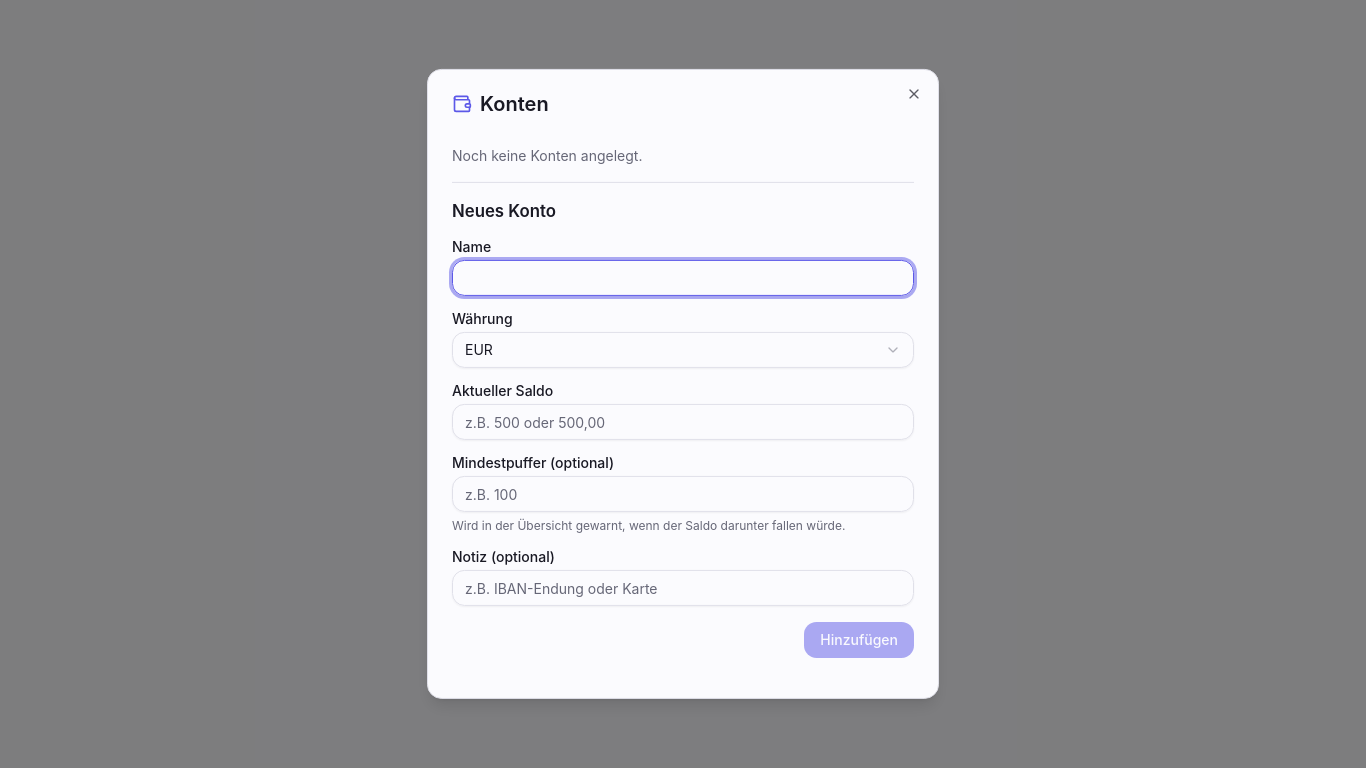
AccountsDialog › zeigt eine Validierungs-Meldung bei ungültigem Saldo
This screenshot has width=1366, height=768.
In the field labelled "Name": coordinates (683, 278) x1=452 y1=260 x2=914 y2=296, type "Test"
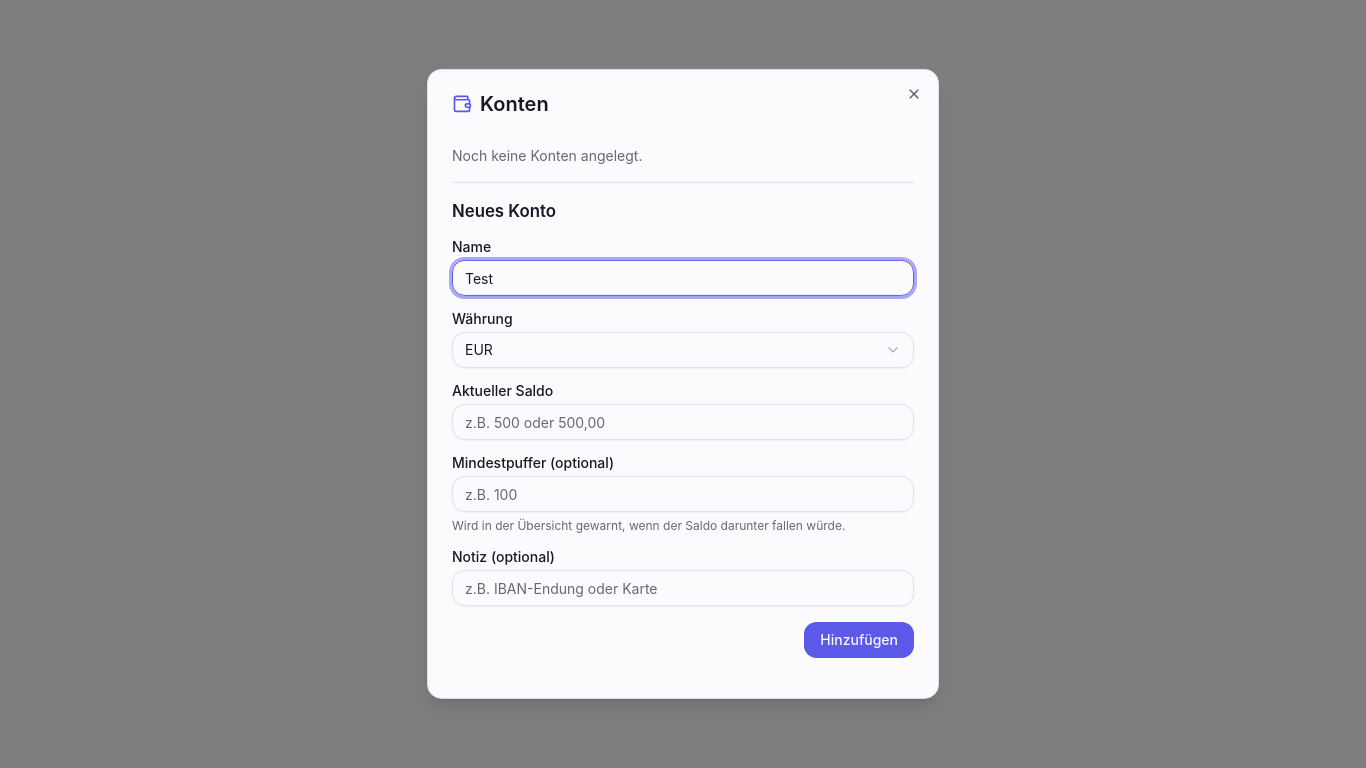
In the field labelled "Aktueller Saldo": coordinates (683, 422) x1=452 y1=404 x2=914 y2=440, type "abc"
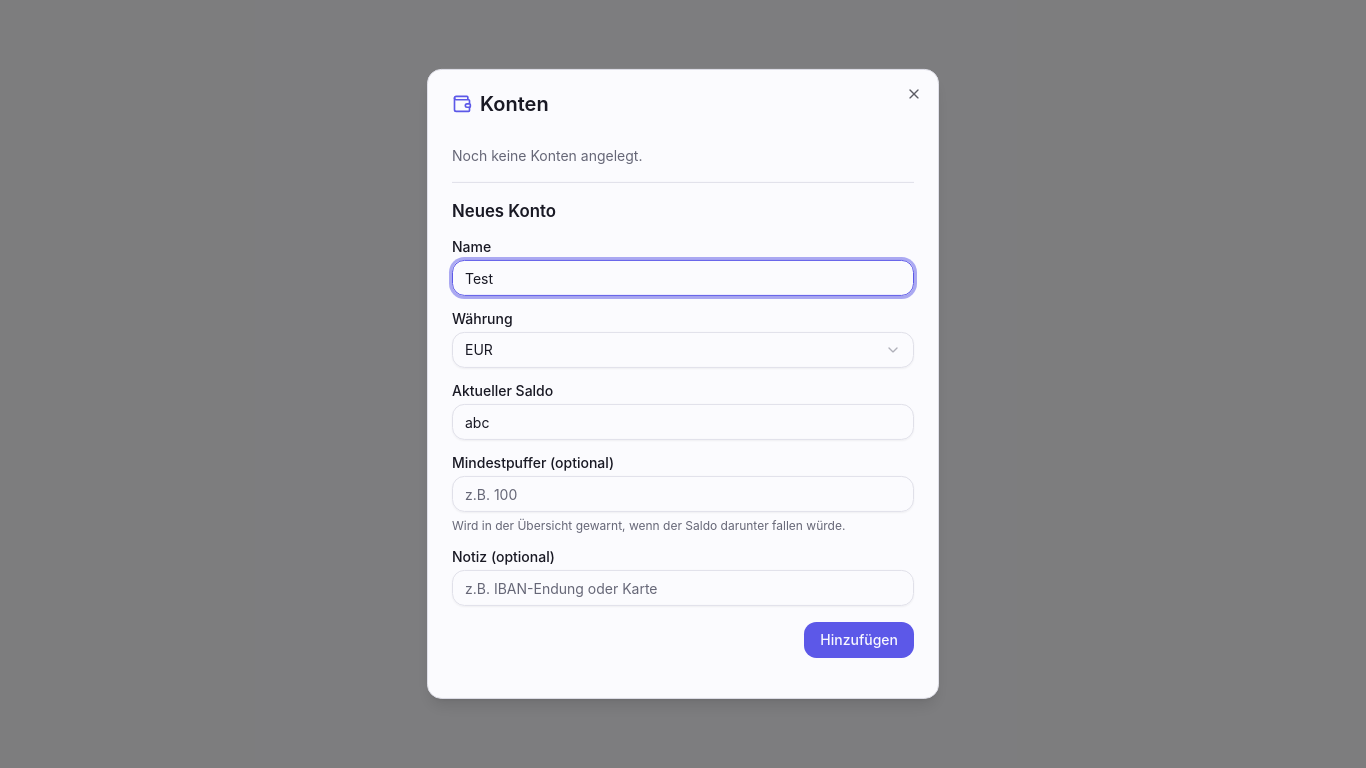
Click the button "Hinzufügen": coordinates (859, 640) x1=804 y1=622 x2=914 y2=658
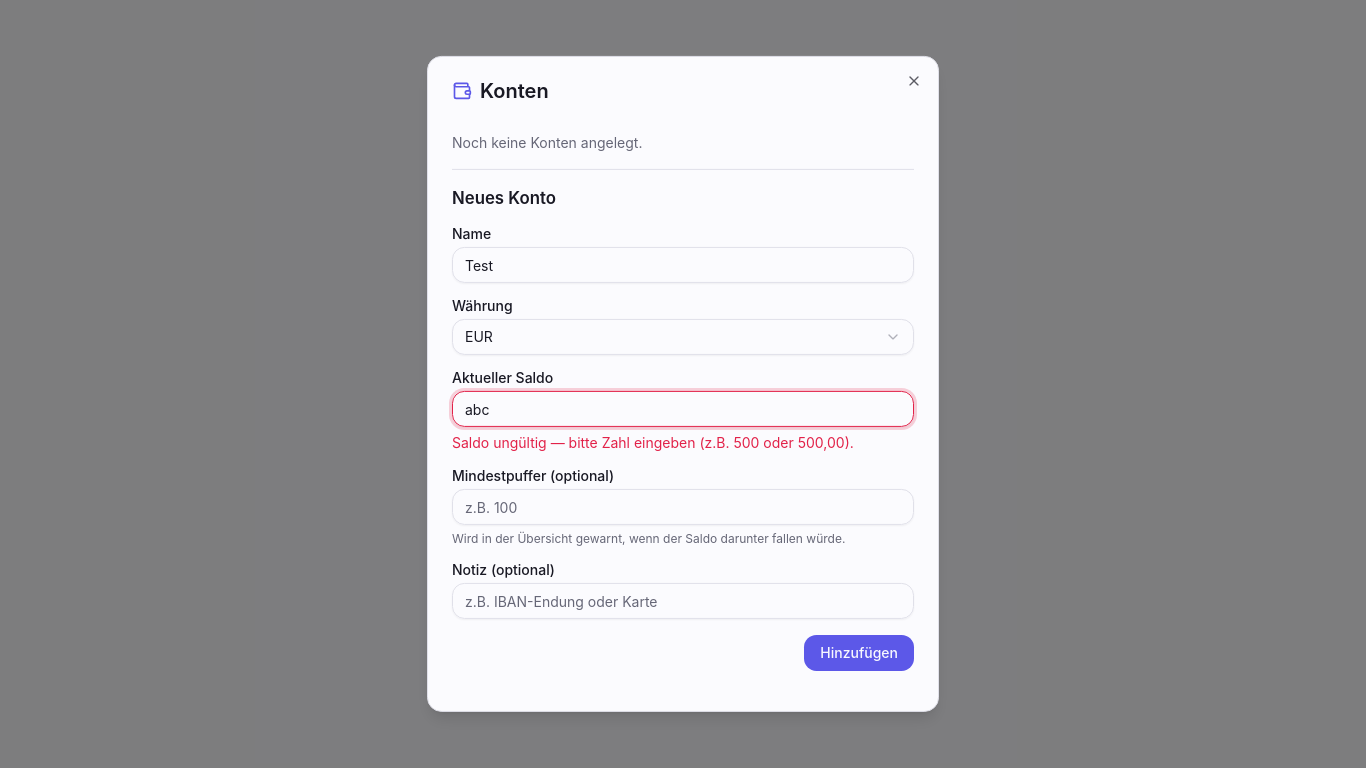
Expected: the message shows "Saldo ungültig", x1=452 y1=434 x2=854 y2=451
